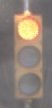Red: (9, 9, 44, 101)
